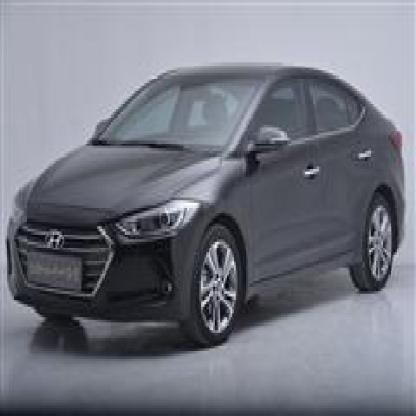Car: (0, 52, 413, 346)
